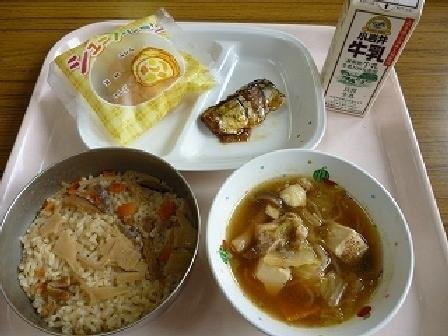Fish: (203, 55, 289, 149)
Milk: (315, 1, 432, 120)
Mixed rice: (5, 148, 199, 325)
pastry: (52, 15, 197, 138)
vegetable soup: (232, 156, 403, 321)
